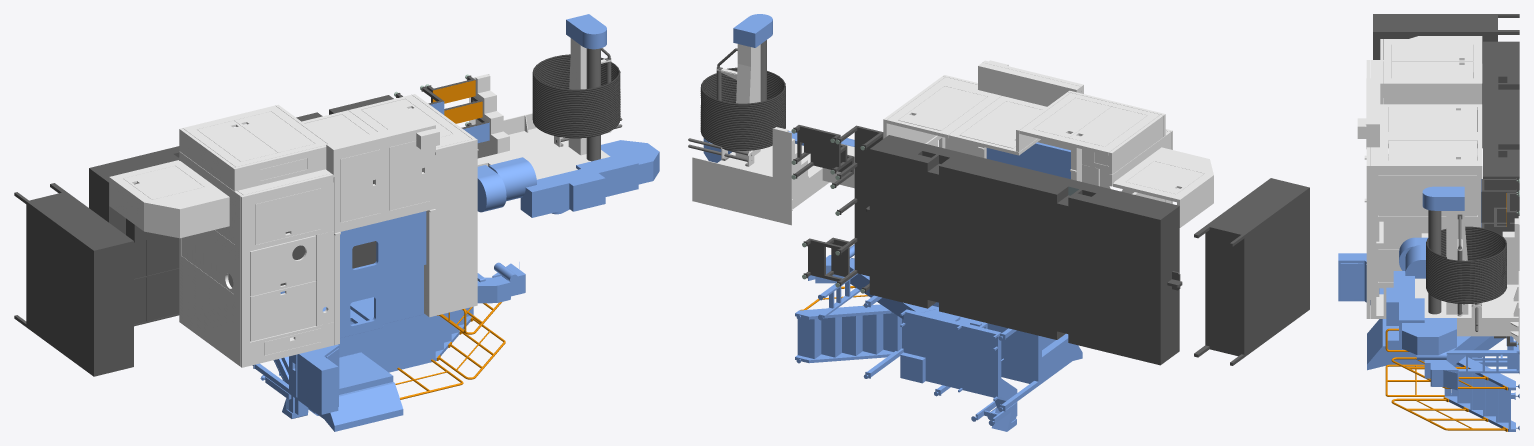
File: HNF-514_프론텍_LAYOUT 배치 모델링.fbx
The picture shows the model from 3 angles, left to right: view 1: azimuth 30°, elevation 25°; view 2: azimuth 150°, elevation 25°; view 3: azimuth 270°, elevation 25°; orthographic projection. The views are drawn at different scales.
Visible parts, largest first — view 1: HD-P55201CD77mzf; view 2: HD-P55201CD77mzf; view 3: HD-P55201CD77mzf.
Boxes of the visible parts, box(x1,y1,x2,y2) form: HD-P55201CD77mzf: box(14, 14, 659, 431); HD-P55201CD77mzf: box(688, 14, 1309, 431); HD-P55201CD77mzf: box(1338, 14, 1519, 431).
Bounding box in the file's own units: 1028 × 559 × 297.
